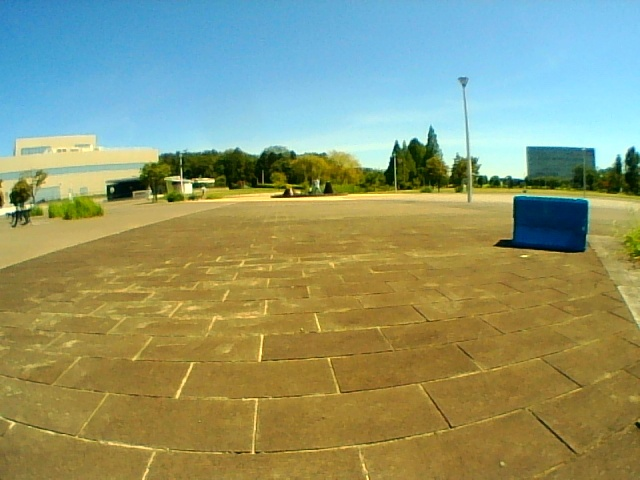blue_box: (516, 199, 586, 248)
